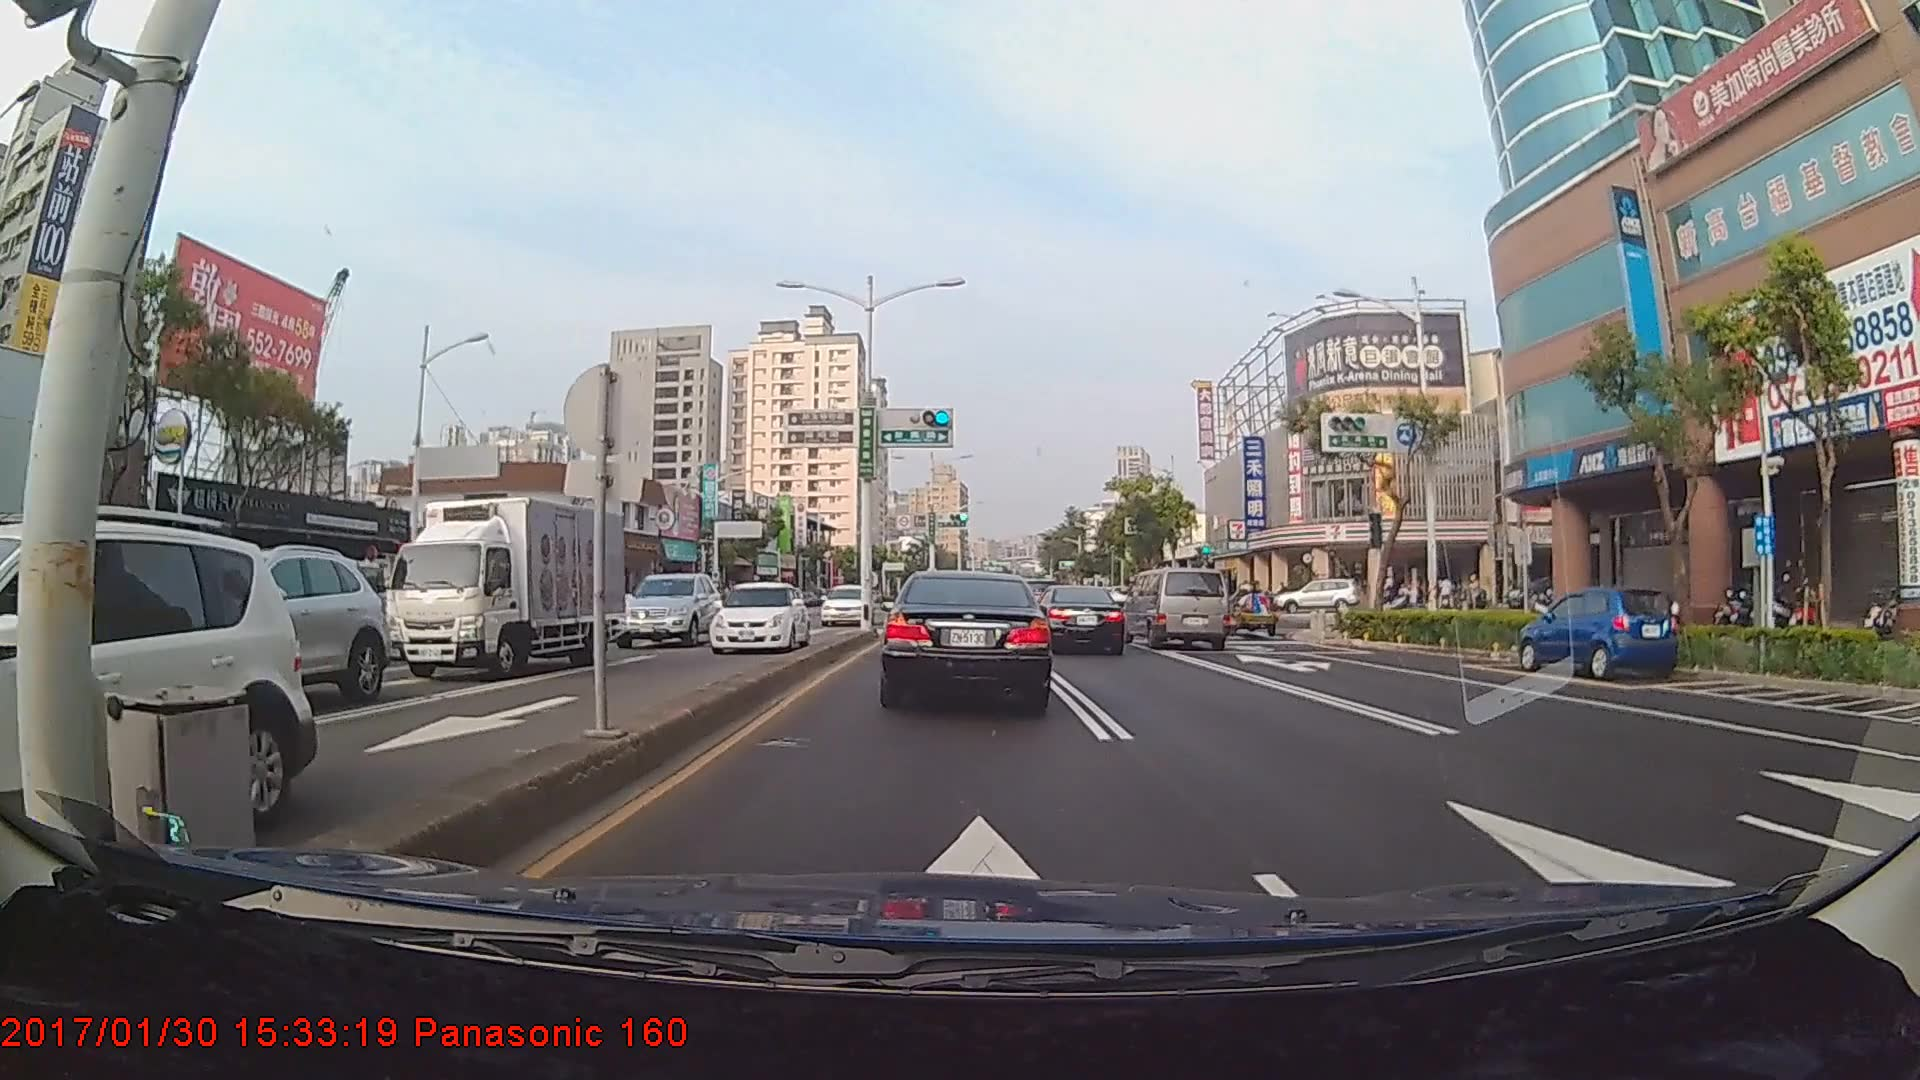vehicle: (0, 522, 298, 869), (377, 492, 626, 680), (123, 541, 382, 707), (881, 568, 1052, 711), (1520, 584, 1676, 680), (603, 566, 716, 647), (1125, 567, 1228, 651), (707, 578, 811, 651), (1034, 585, 1127, 654), (1274, 578, 1360, 615), (818, 582, 869, 625)
